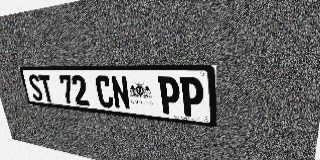2: (71, 75, 89, 106)
7: (58, 75, 76, 105)
C: (94, 75, 114, 109)
N: (110, 76, 131, 110)
P: (180, 77, 204, 118), (158, 76, 181, 115)
S: (28, 74, 44, 101)
T: (38, 74, 55, 102)
